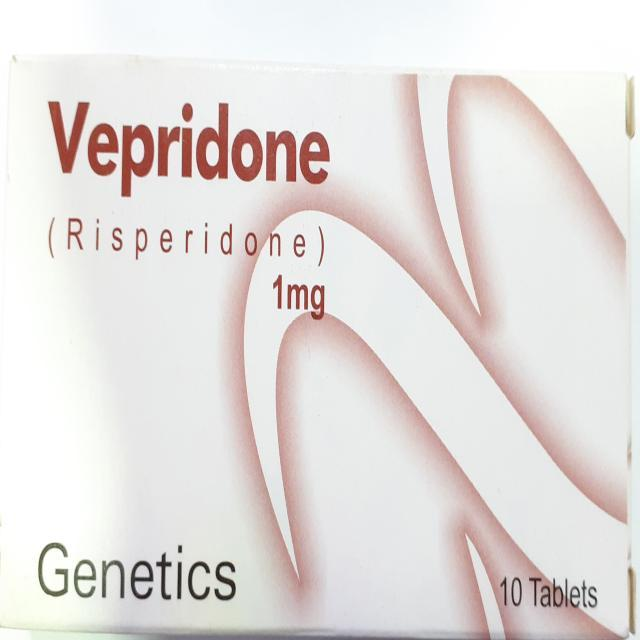drug-name: (40, 94, 332, 202)
